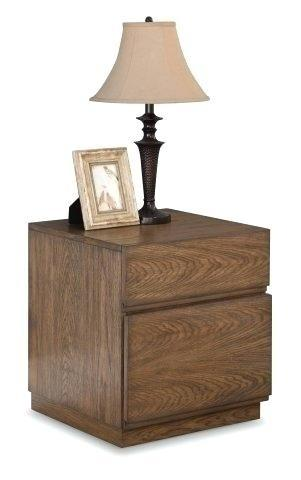cabinet_door: (122, 304, 271, 410), (119, 240, 270, 296)
